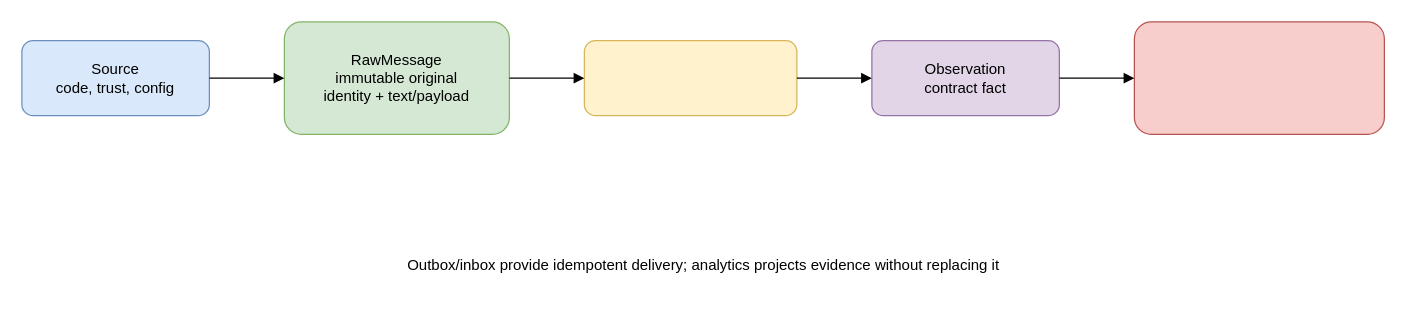
Some shapes in this 1406 by 313 pixel diagram are drawn without their labels. Here are the shapes that lost their labels. From the top down, the centre of each, then its label:
At point 690,77: "Run + Extraction canonical per raw/run".
At point 1258,77: "Public object Target / Alert / Incident + revisions and evidence links".
